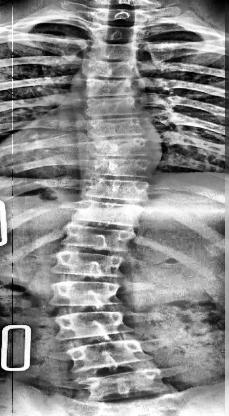Vertebrae: (82, 366, 174, 404), (67, 338, 151, 372), (55, 308, 131, 342), (60, 223, 134, 256), (70, 198, 144, 230), (52, 248, 124, 280), (49, 280, 125, 310), (82, 175, 152, 205), (86, 155, 154, 183), (86, 134, 152, 160), (87, 115, 148, 139), (82, 95, 142, 118), (89, 20, 145, 44), (86, 39, 142, 63), (82, 75, 138, 99), (82, 57, 140, 79), (92, 4, 148, 26)
